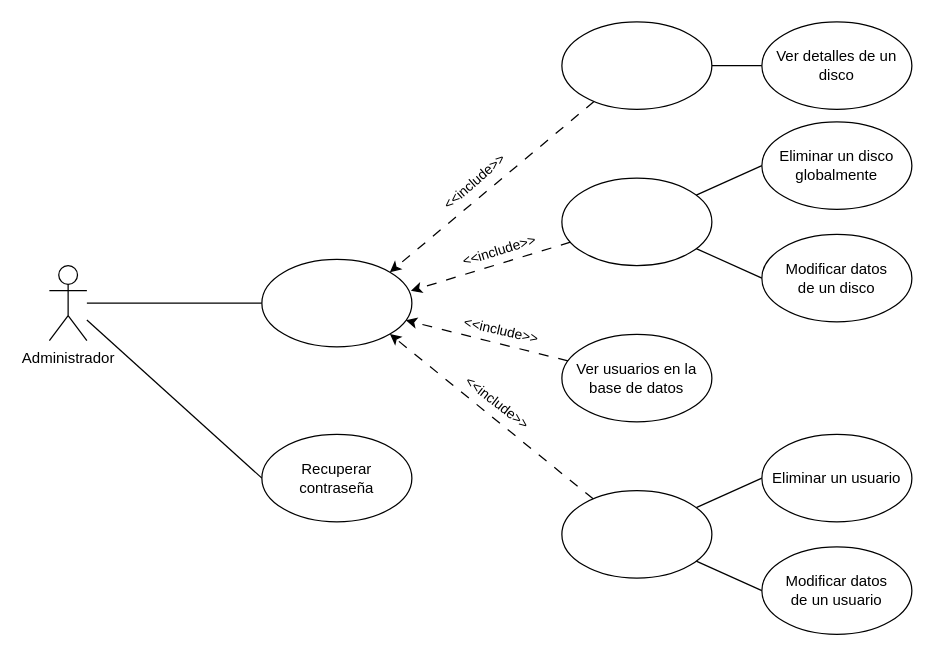
Image size: 934x656. Some labels were removed from this diagram. The shapes that lost their labels are listed below. From the top down, each one's centre as x and y in pixels, then its label:
At (636,65): "Ver discos en la base de datos".
At (636,221): "Modificar discos en la base de datos".
At (336,302): "Iniciar sesión".
At (636,533): "Modificar usuarios en la base de datos".
